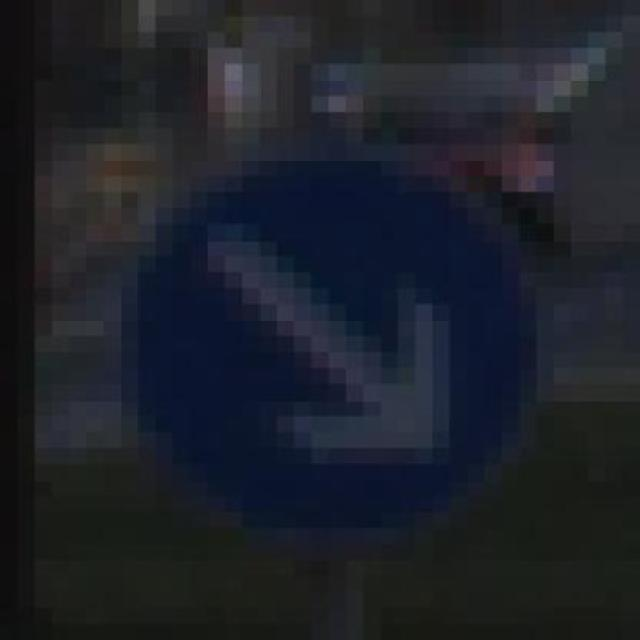Keep-Right: (121, 128, 553, 544)
